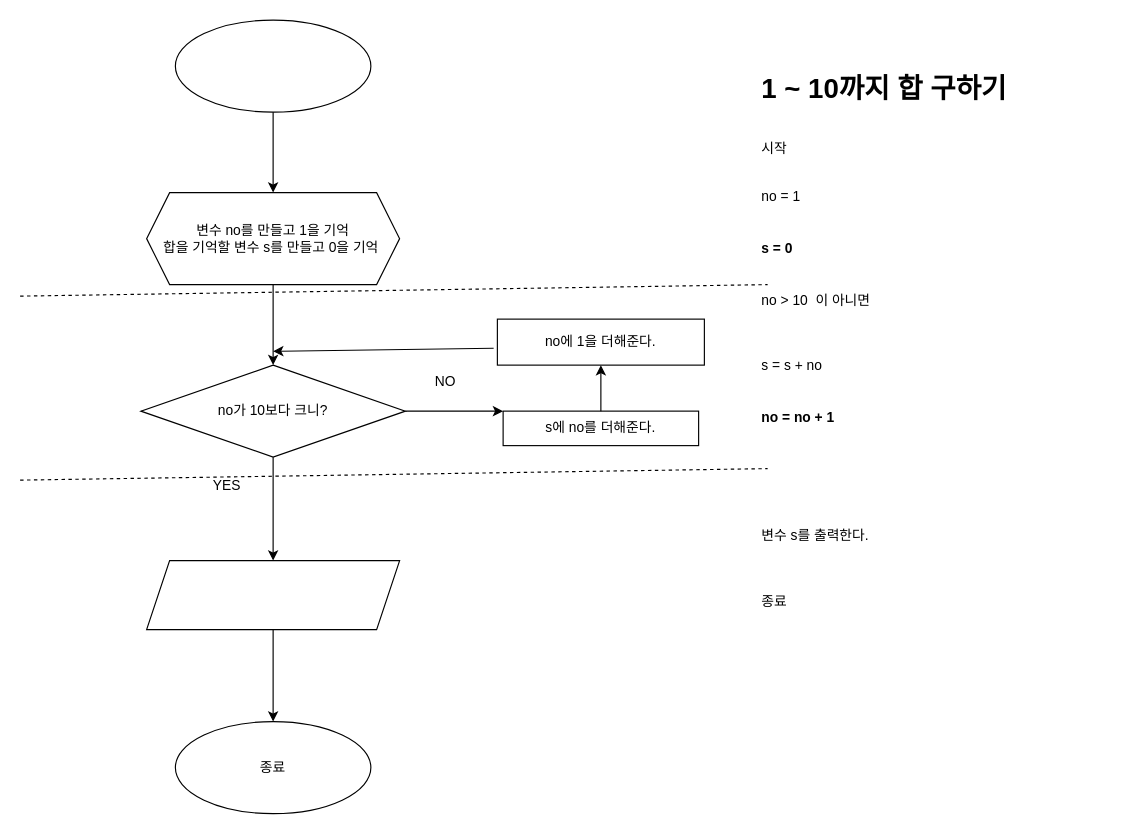
This 1121x834 diagram has some shape labels left out. Each missing label, with the box of its shape:
변수 s를 합으로 출력: (145, 559, 400, 630)
시작: (174, 19, 371, 112)
